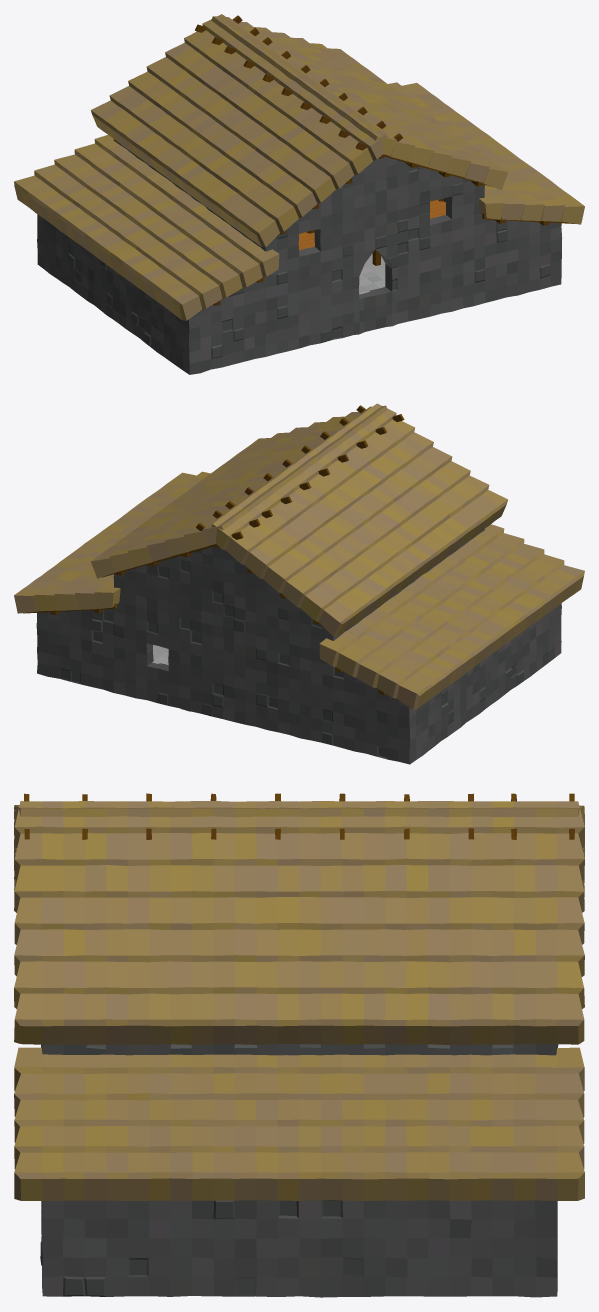
The model's file is MeadHall.glb.
The picture shows the model from 3 angles, top to bottom: view 1: azimuth 30°, elevation 25°; view 2: azimuth 150°, elevation 25°; view 3: azimuth 270°, elevation 25°; orthographic projection. The views are drawn at different scales.
Parts seen in each view (by area): view 1: ThatchedRoof, Wall, RoofStructure, Floor, TopWoodenFloor; view 2: ThatchedRoof, Wall, RoofStructure; view 3: ThatchedRoof, Wall, RoofStructure.
Part boxes in pixels (x1,y1,x2,y2): ThatchedRoof: (14,14,584,320); Wall: (37,139,562,374); RoofStructure: (195,15,574,311); Floor: (359,253,385,294); TopWoodenFloor: (298,200,445,250); ThatchedRoof: (14,403,584,709); Wall: (36,529,561,764); RoofStructure: (23,405,404,700); ThatchedRoof: (14,801,584,1200); Wall: (40,1044,558,1297); RoofStructure: (24,793,574,839).
Size of the model in its own units: 37.04 by 17.49 by 26.61.
